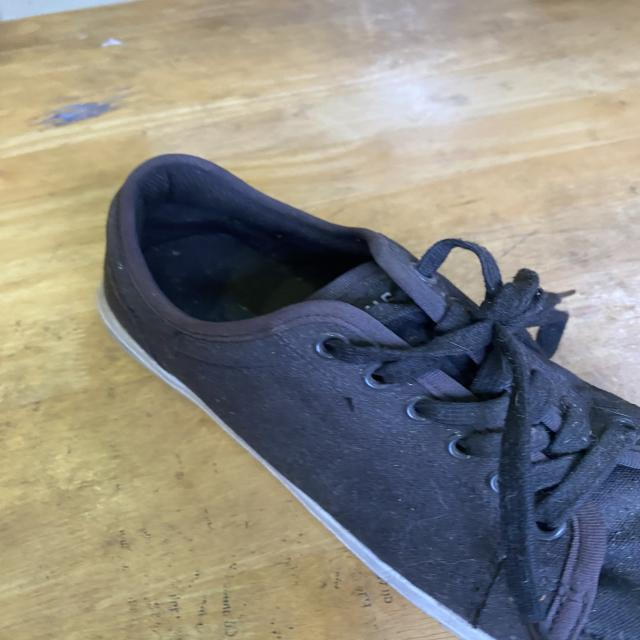broken-error: (336, 382, 367, 422), (158, 322, 198, 352)
